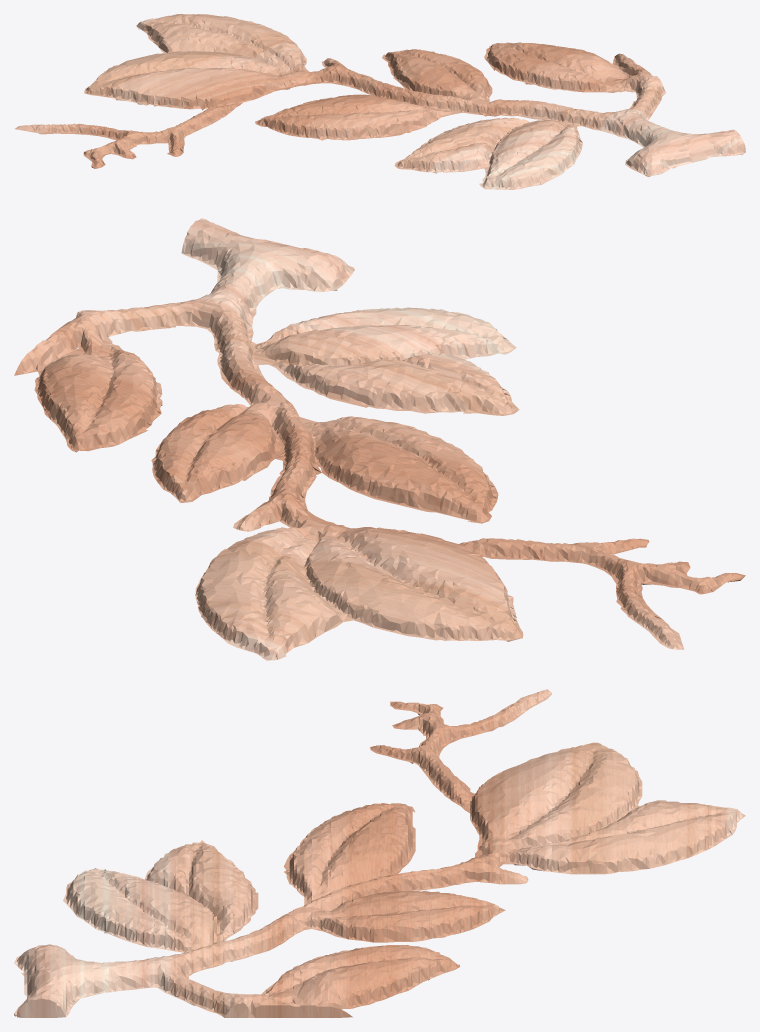
The model's file is wolf02.glb.
3 renders of one model, top to bottom at view 1: azimuth 30°, elevation 25°; view 2: azimuth 150°, elevation 25°; view 3: azimuth 270°, elevation 25°, orthographic. The views are drawn at different scales.
Visible parts, largest first — view 1: base; view 2: base; view 3: base.
Part boxes in pixels (box(x1,y1,x2,y2)): base: box(14, 14, 745, 189); base: box(14, 218, 745, 660); base: box(14, 689, 745, 1017).
Bounding box in the file's own units: 0.2198 × 0.0067 × 0.2069.
1 material, 1 textured.
